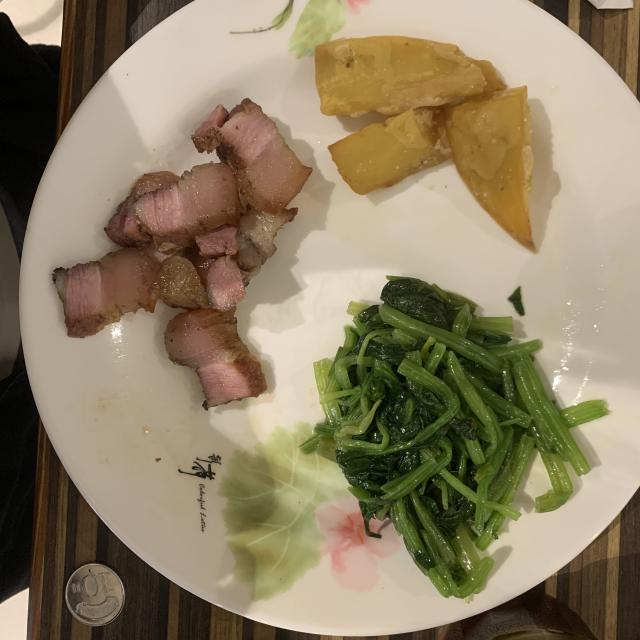coin: (65, 564, 125, 626)
grilled pork: (52, 99, 311, 408)
mustard greens: (300, 276, 609, 598)
